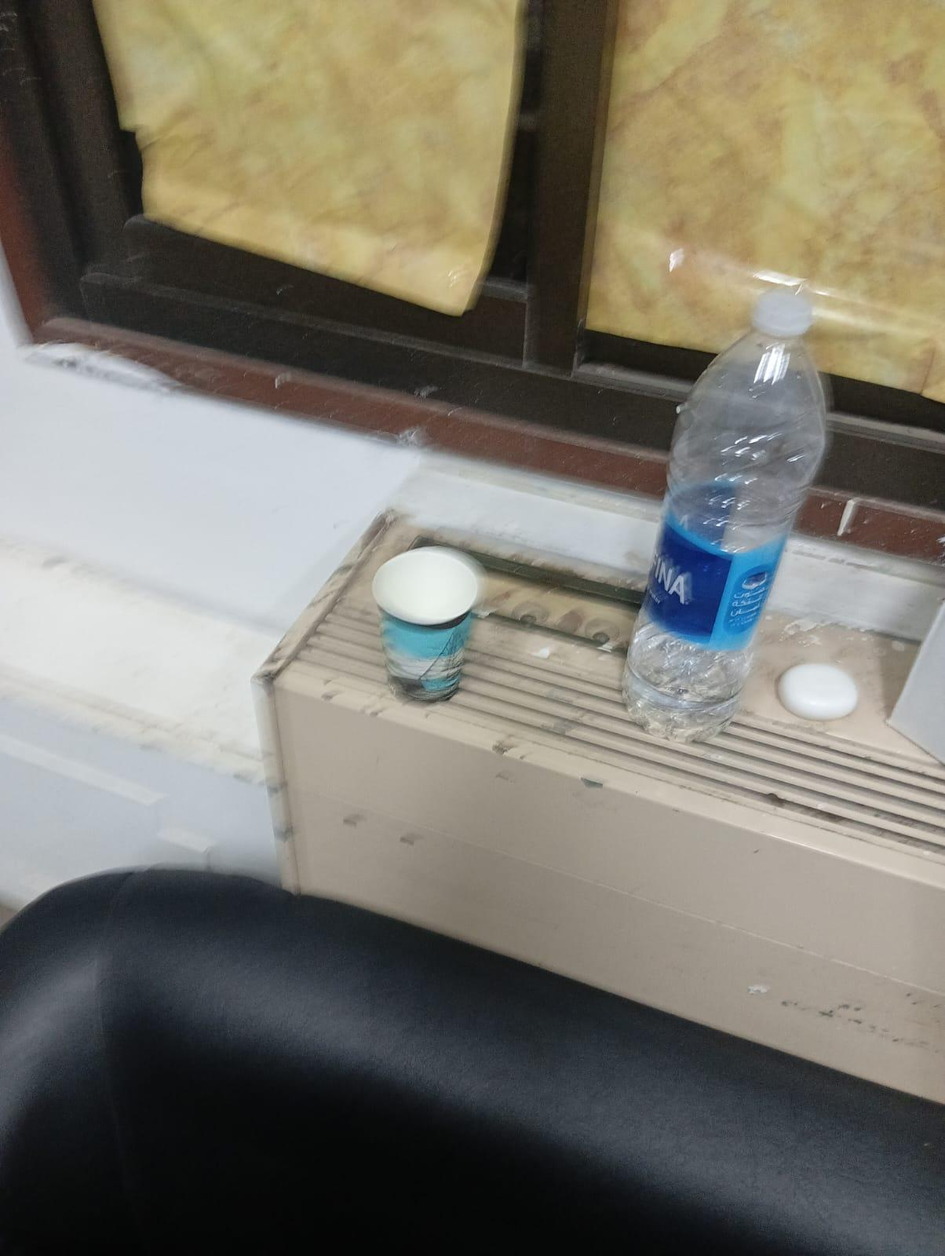cup: (372, 546, 482, 701), (371, 546, 485, 632)
